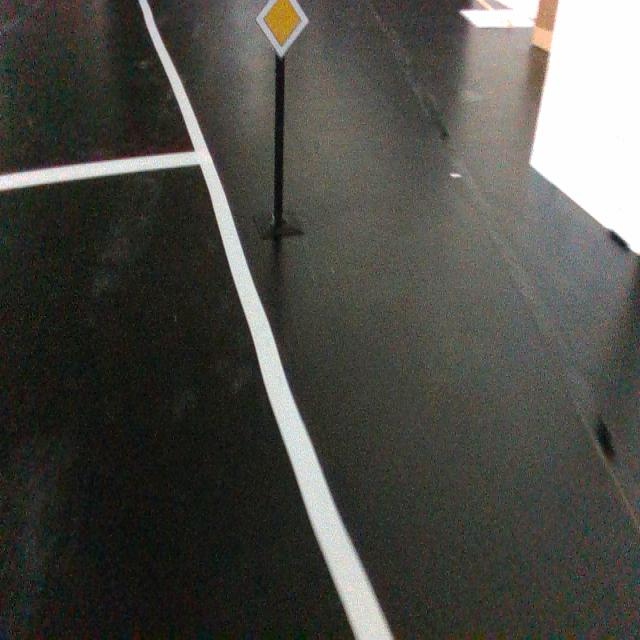priority-sign: (255, 0, 310, 59)
